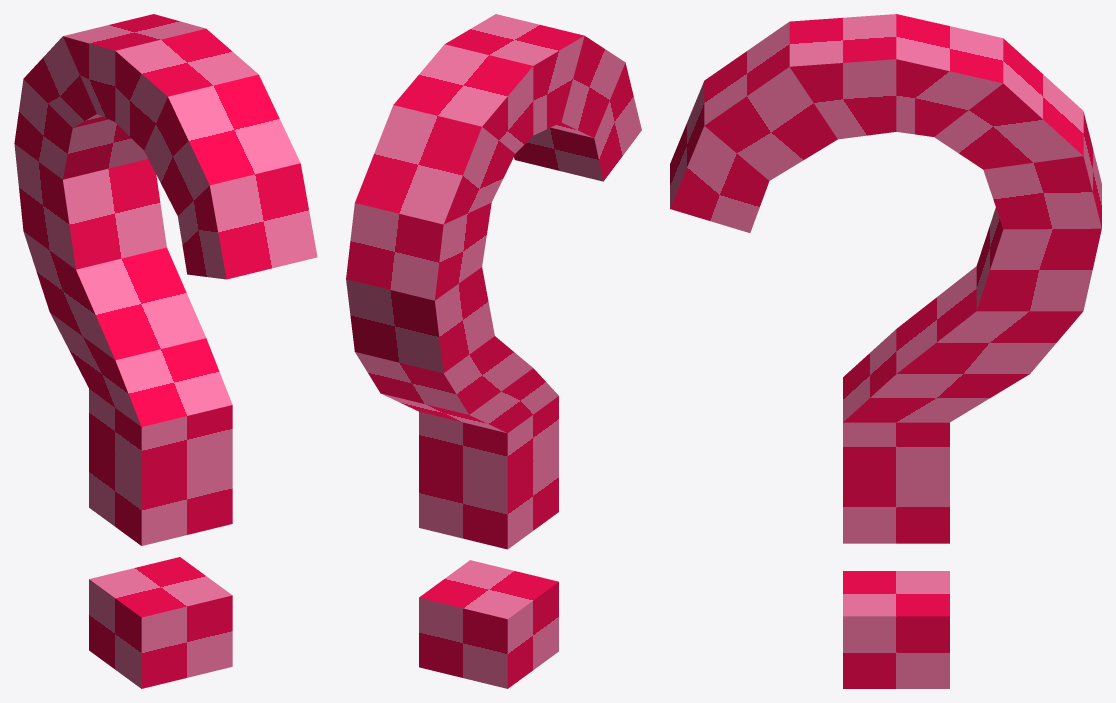
The model's file is question.gltf.
3 views of the same model, side by side, from view 1: azimuth 30°, elevation 25°; view 2: azimuth 150°, elevation 25°; view 3: azimuth 270°, elevation 25° (orthographic). The views are drawn at different scales.
Size of the model in its own units: 1 by 6.5 by 4.04.
Materials: 1 (1 with a texture image).
